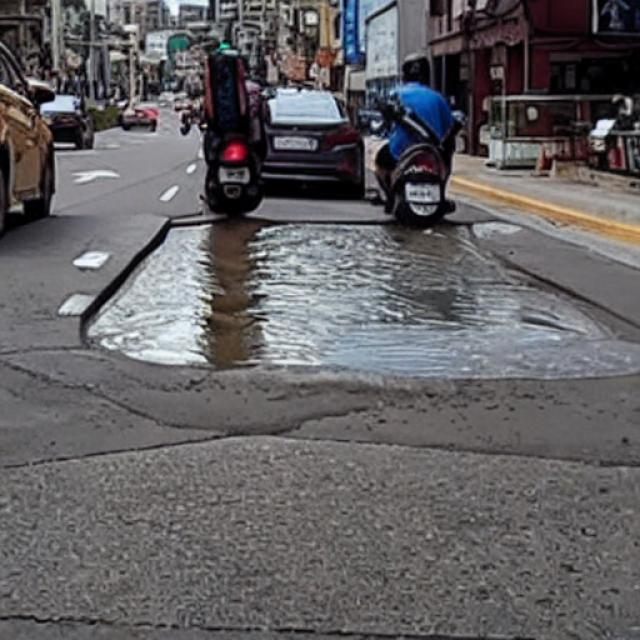puddle: (84, 214, 638, 379)
